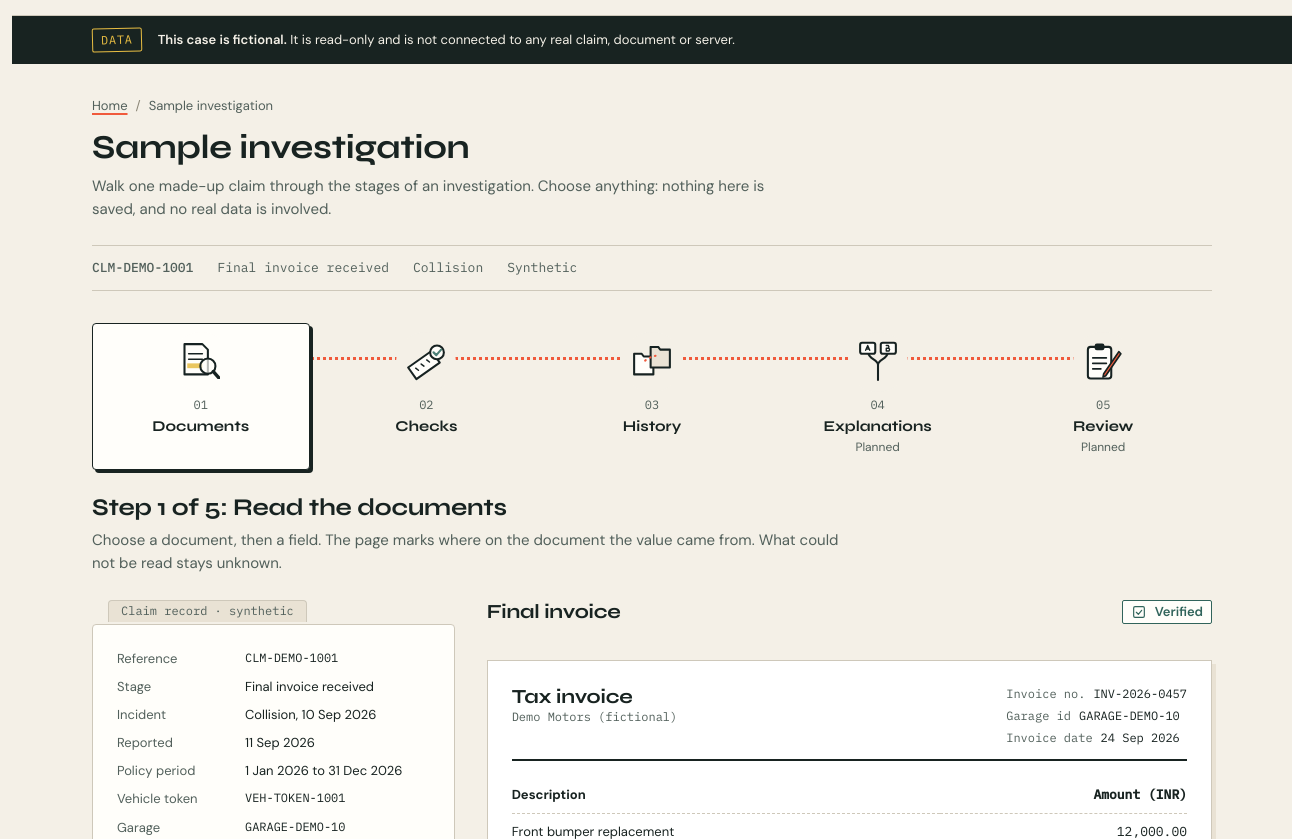
SampleInvestigationPage › writes the step into the address so back and forward work
Click the button "02 Checks" at [426, 396], box [318,323,535,470]
(page scrolled)
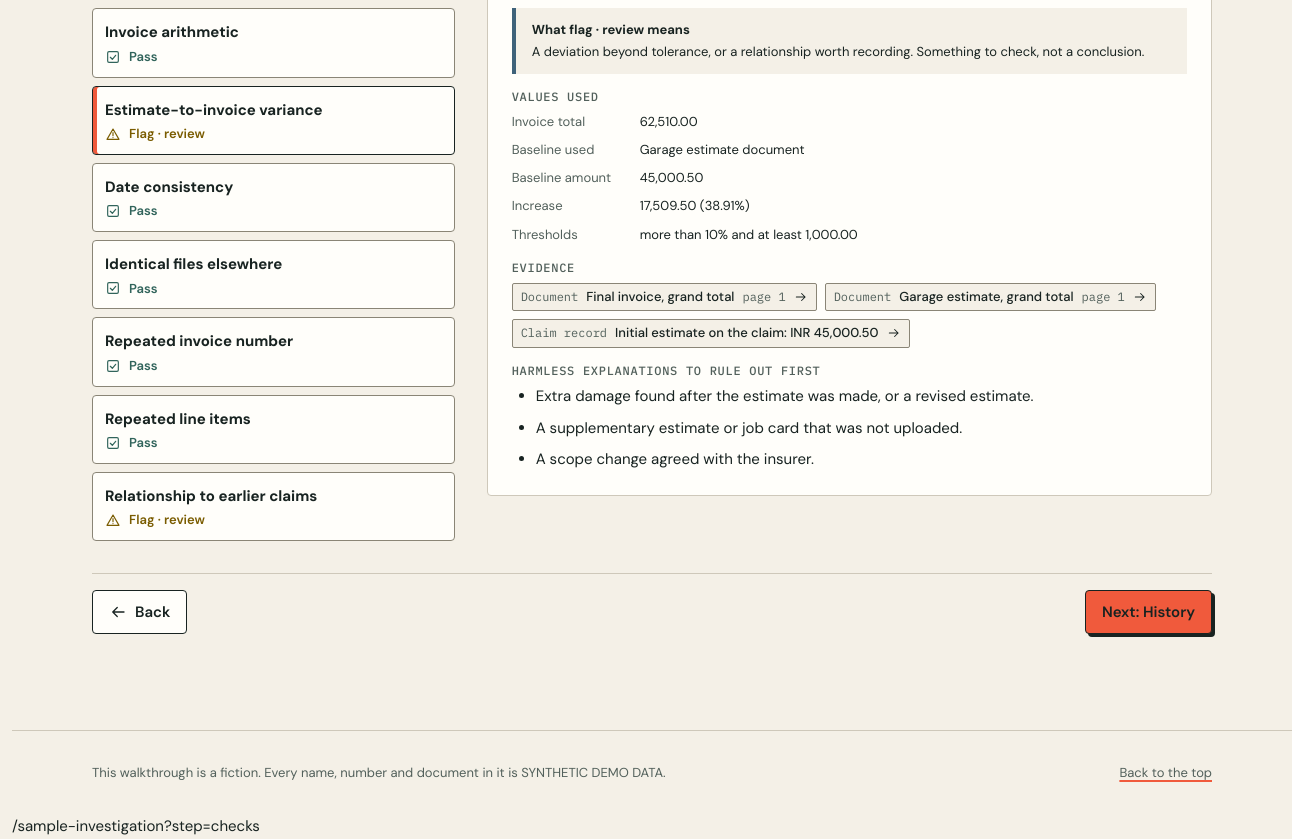
Expected: the text with test id "where" reads "/sample-investigation?step=checks", [12,816,260,836]
